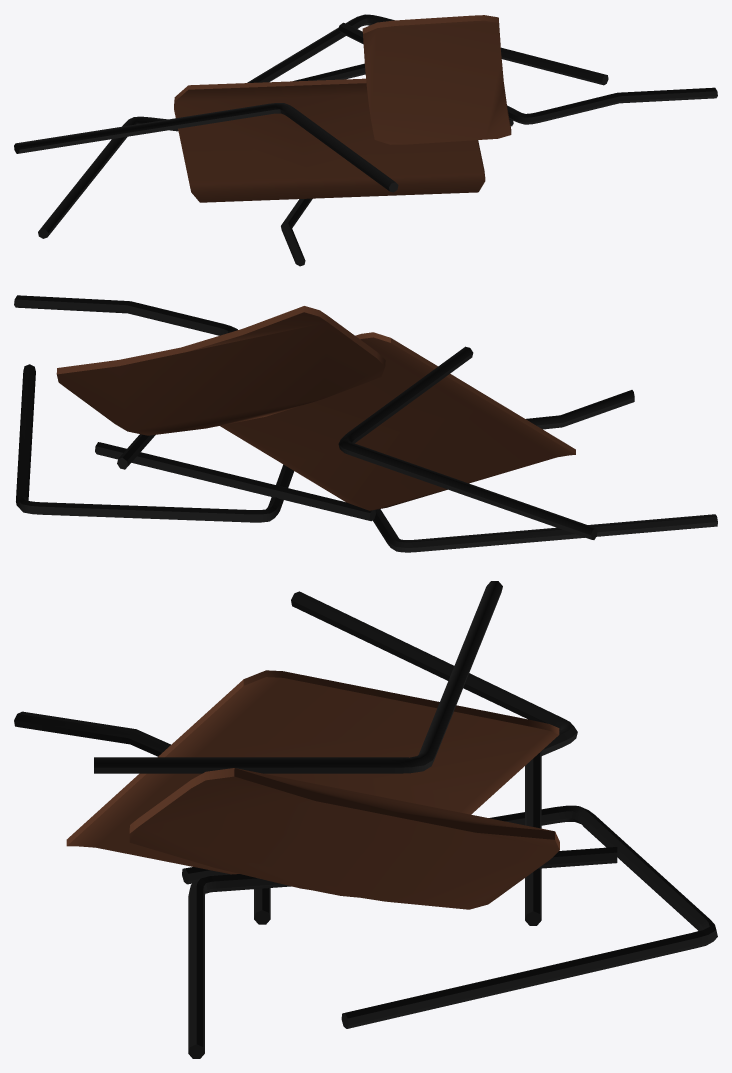
Rendered from FBX_ChaiseDestroyed.fbx.
The picture shows the model from 3 angles, top to bottom: view 1: azimuth 30°, elevation 25°; view 2: azimuth 150°, elevation 25°; view 3: azimuth 270°, elevation 25°; orthographic projection. The views are drawn at different scales.
Parts seen in each view (by area): view 1: ChaiseDetruite; view 2: ChaiseDetruite; view 3: ChaiseDetruite.
Boxes of the visible parts, left/top/right/bottom form: ChaiseDetruite: left=14, top=14, right=717, bottom=266; ChaiseDetruite: left=14, top=295, right=717, bottom=552; ChaiseDetruite: left=14, top=581, right=717, bottom=1058.
Bounding box in the file's own units: 1.31 × 0.106 × 0.8319.
